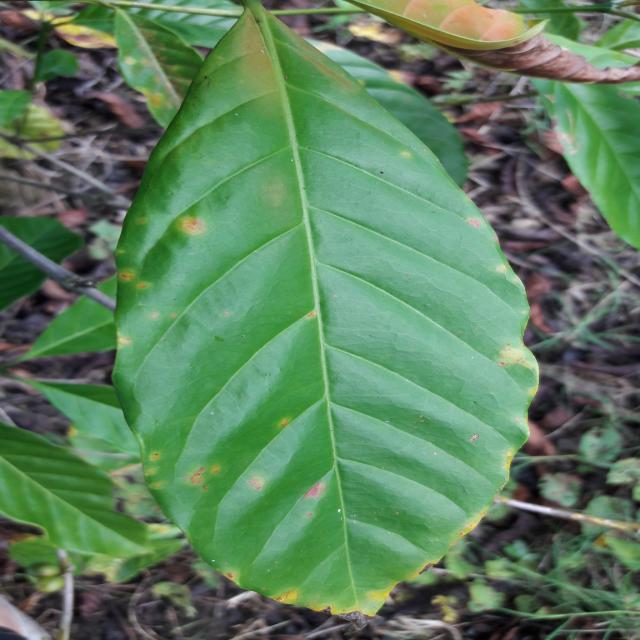Enfermedad-Roya: (111, 0, 539, 617)
